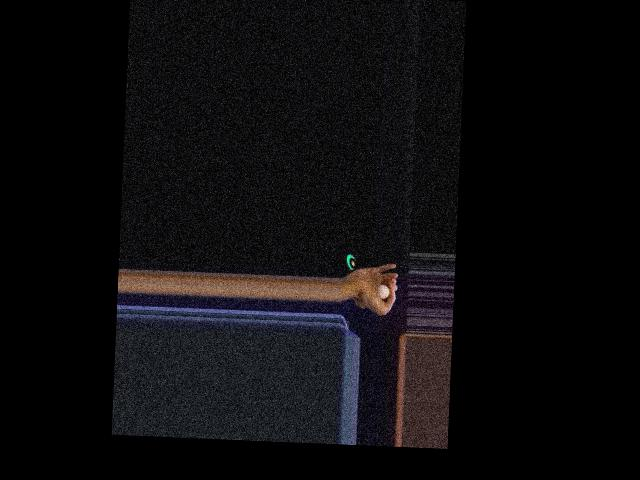egg: (378, 284, 389, 299)
